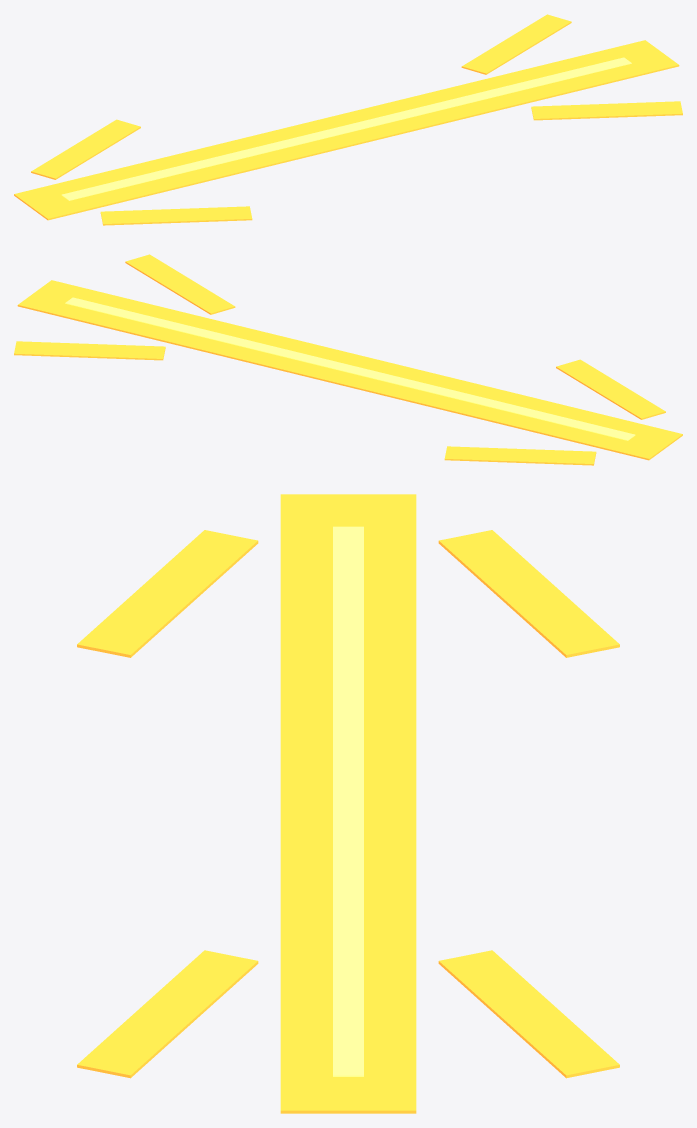
File: vault-r4-tile.glb
The picture shows the model from 3 angles, top to bottom: view 1: azimuth 30°, elevation 25°; view 2: azimuth 150°, elevation 25°; view 3: azimuth 270°, elevation 25°; orthographic projection. The views are drawn at different scales.
Parts seen in each view (by area): view 1: Tile warning · ceramic strips, Tile warning · edge wafer, Tile warning · offset chevron.001, Tile warning · offset chevron, Tile warning · offset chevron.002, Tile warning · offset chevron.003; view 2: Tile warning · ceramic strips, Tile warning · edge wafer, Tile warning · offset chevron.003, Tile warning · offset chevron.002, Tile warning · offset chevron, Tile warning · offset chevron.001; view 3: Tile warning · ceramic strips, Tile warning · edge wafer, Tile warning · offset chevron.001, Tile warning · offset chevron.003, Tile warning · offset chevron, Tile warning · offset chevron.002.
Boxes of the visible parts, left/top/right/bottom form: Tile warning · ceramic strips: left=14, top=40, right=679, bottom=220; Tile warning · edge wafer: left=61, top=57, right=631, bottom=200; Tile warning · offset chevron.001: left=531, top=101, right=682, bottom=120; Tile warning · offset chevron: left=100, top=206, right=252, bottom=225; Tile warning · offset chevron.002: left=31, top=119, right=140, bottom=179; Tile warning · offset chevron.003: left=461, top=14, right=571, bottom=74; Tile warning · ceramic strips: left=17, top=280, right=682, bottom=460; Tile warning · edge wafer: left=65, top=297, right=635, bottom=440; Tile warning · offset chevron.003: left=14, top=341, right=165, bottom=360; Tile warning · offset chevron.002: left=444, top=446, right=596, bottom=465; Tile warning · offset chevron: left=556, top=359, right=665, bottom=419; Tile warning · offset chevron.001: left=125, top=254, right=235, bottom=314; Tile warning · ceramic strips: left=280, top=494, right=416, bottom=1113; Tile warning · edge wafer: left=333, top=526, right=363, bottom=1076; Tile warning · offset chevron.001: left=77, top=950, right=258, bottom=1078; Tile warning · offset chevron.003: left=438, top=950, right=619, bottom=1078; Tile warning · offset chevron: left=77, top=530, right=258, bottom=657; Tile warning · offset chevron.002: left=438, top=530, right=619, bottom=657.
Bounding box in the file's own units: 2.58 × 0.0085 × 0.9607.
